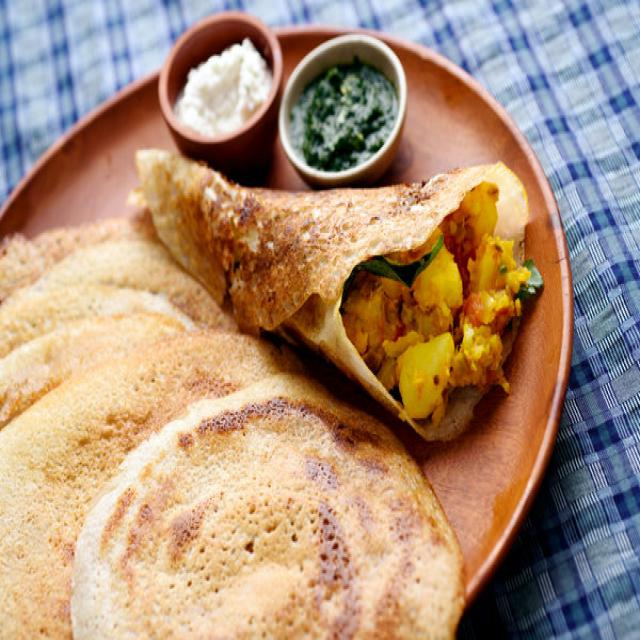Wet Waste: (136, 136, 538, 434), (0, 322, 355, 638), (70, 362, 468, 638), (0, 297, 192, 638)
